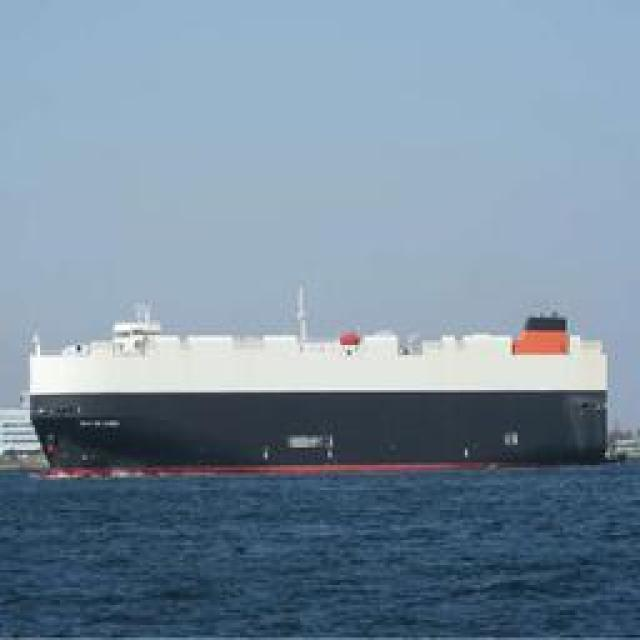ship2: (28, 283, 611, 478)
